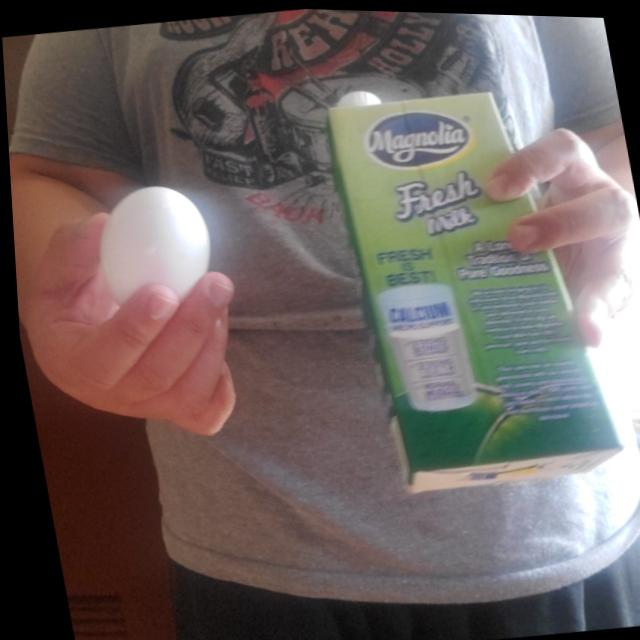egg: (77, 180, 219, 317)
milk: (319, 60, 620, 500)
